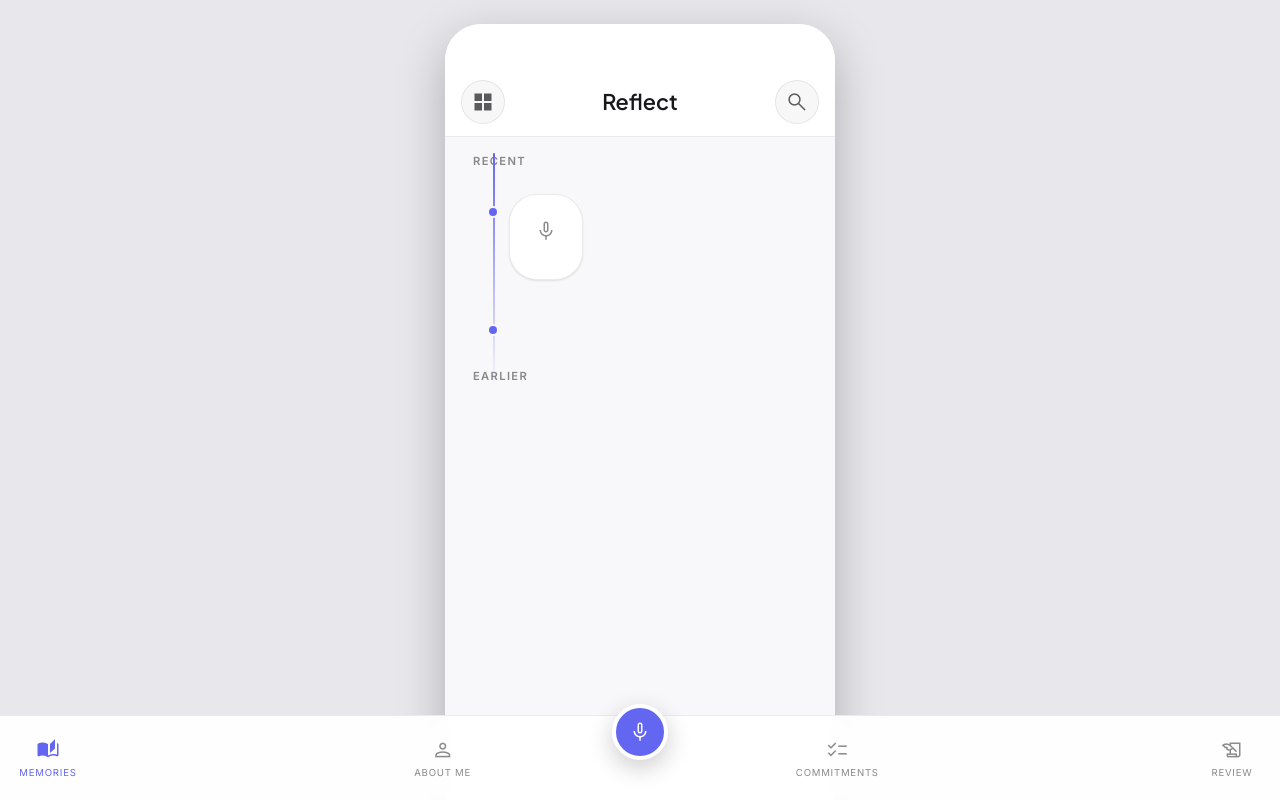
it: Navigation actions › reflect mic button navigates to Chat
Click the button named "Record" at (640, 732), box [612,704,668,760]
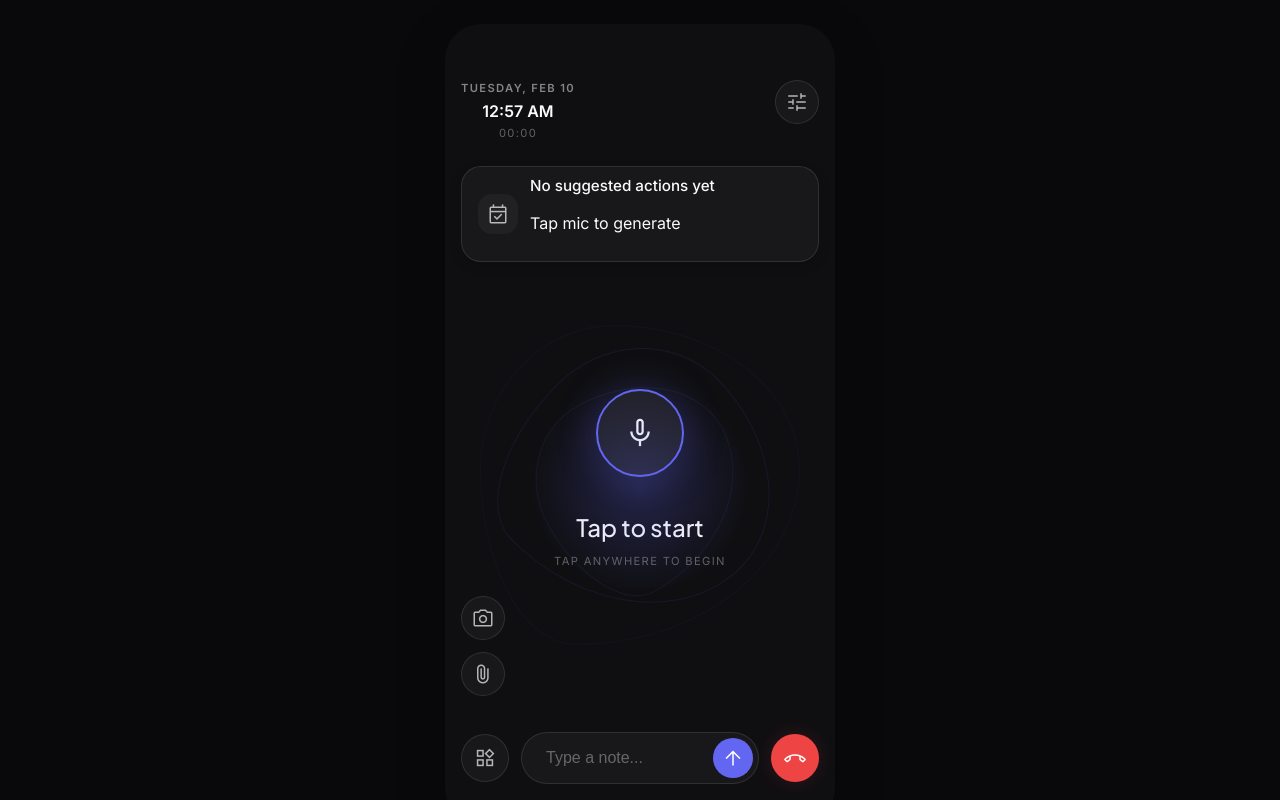
Check: the field with placeholder "Type a note..." is shown, box [521,732,759,784]
